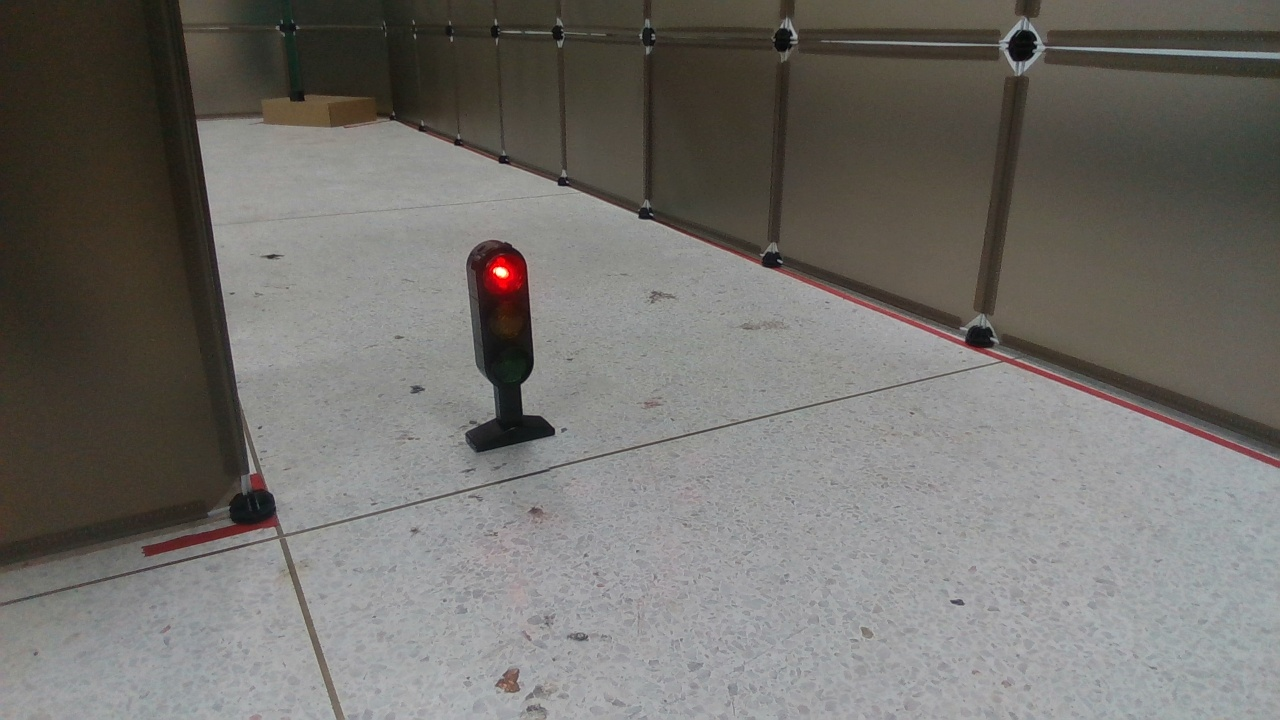Red traffic light: (455, 244, 559, 454)
